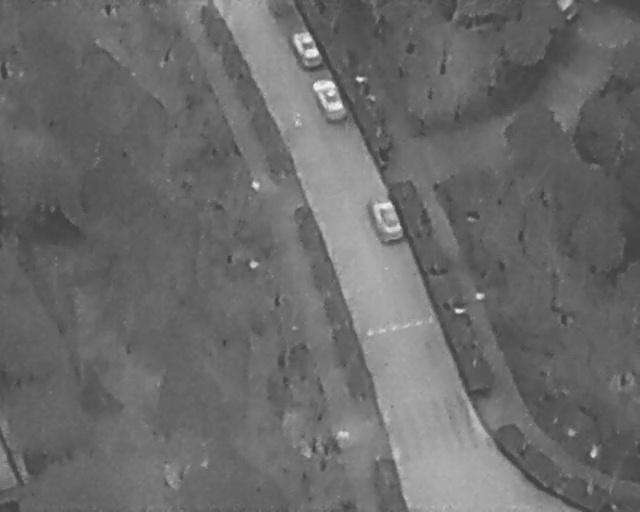Car: (364, 192, 407, 247), (309, 74, 351, 126), (289, 25, 326, 71)
